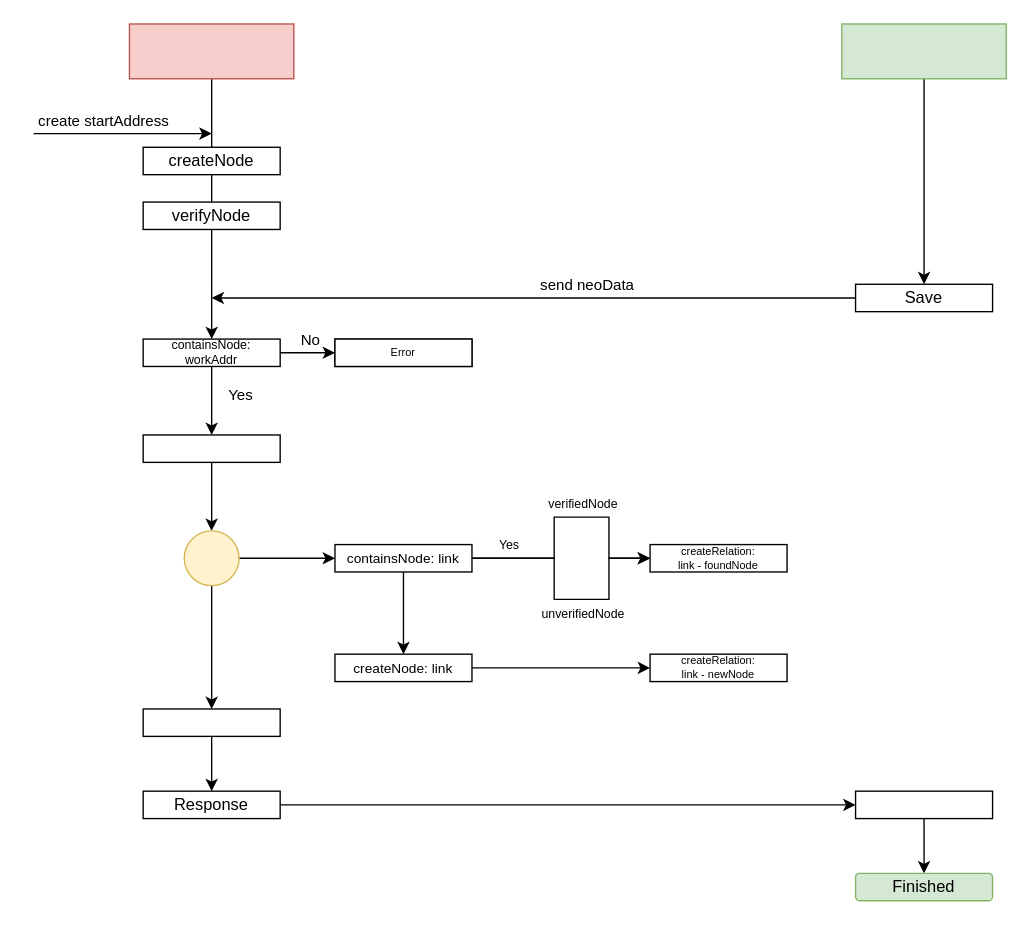
The diagram is 1030 pixels wide and 925 high, and some of its shapes have lost their labels. Here are the shapes that lost their labels. From the top down, the box of each, then its label:
(128, 23, 294, 79): Neo4J
(840, 23, 1006, 79): Analyser
(142, 434, 280, 462): verifyNode: workAddr
(183, 530, 239, 586): foreach link
(142, 708, 280, 736): postprocessing
(854, 790, 993, 819): Send
